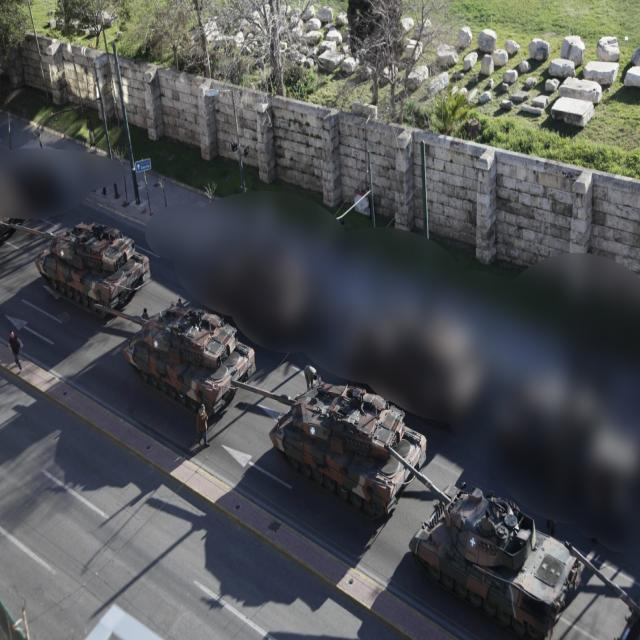tank: (382, 443, 580, 639), (232, 354, 429, 527), (0, 202, 152, 319), (122, 304, 258, 423)
